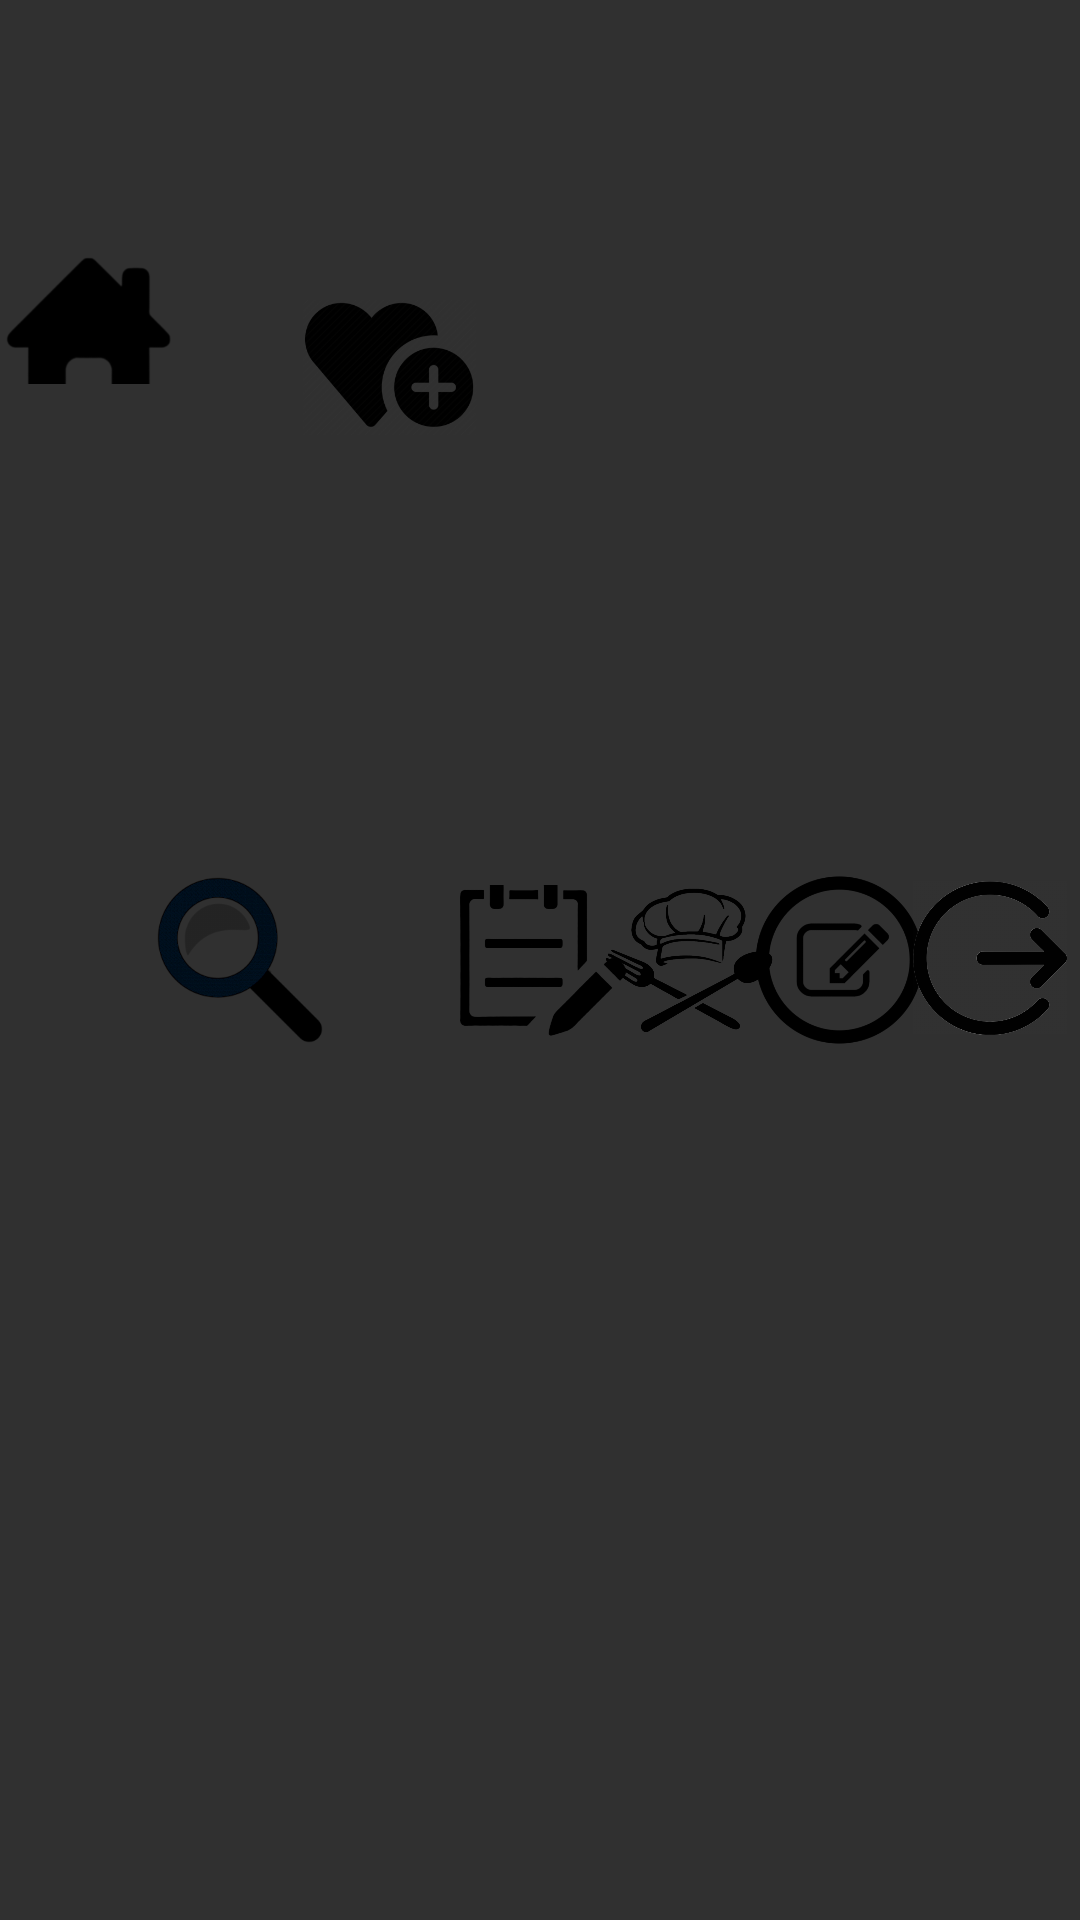

Named icons in this screenshot (1080px x 1920px) and their bounding boxes, (x1, y1, x2, y2):
chef: (604, 889, 746, 1029)
home: (7, 258, 170, 384)
saved: (305, 303, 473, 427)
sign out: (903, 882, 1067, 1035)
